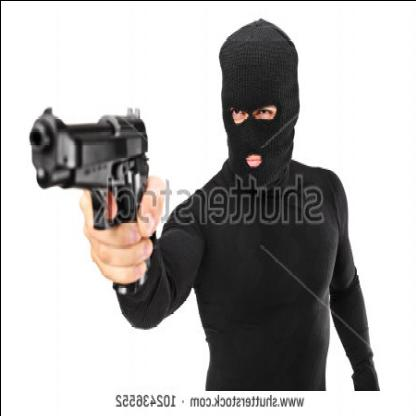billete: (28, 102, 150, 292)
